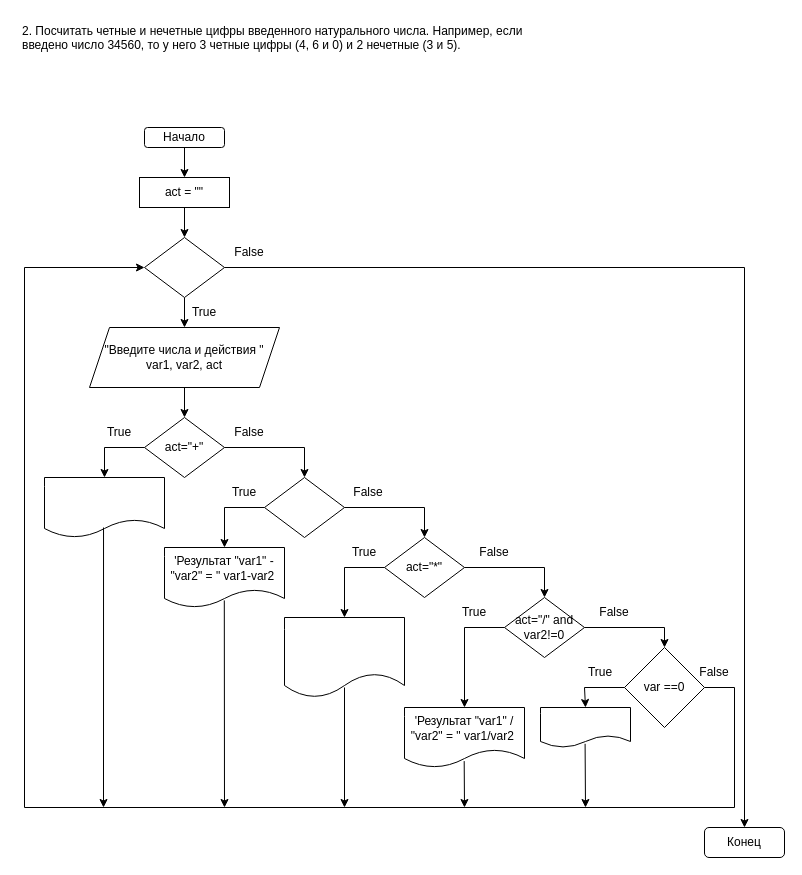
This 802x875 diagram has some shape labels left out. The shapes that lost their labels are listed below. From the top down, each one's box as (x1, y1, x2, y2) in pixels, then its label:
(144, 236, 224, 298): act<>'0'
(44, 476, 164, 538): 'Результат "var1" + "var2" = " var1+var2
(264, 476, 344, 538): act="-"
(284, 616, 404, 698): 'Результат "var1" * "var2" = " var1*var2
(540, 706, 630, 748): "Деление невозможно"
